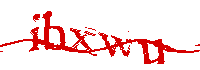b: (44, 8, 67, 53)
i: (29, 12, 41, 53)
u: (138, 38, 166, 65)
w: (98, 30, 136, 60)
x: (70, 27, 97, 58)
